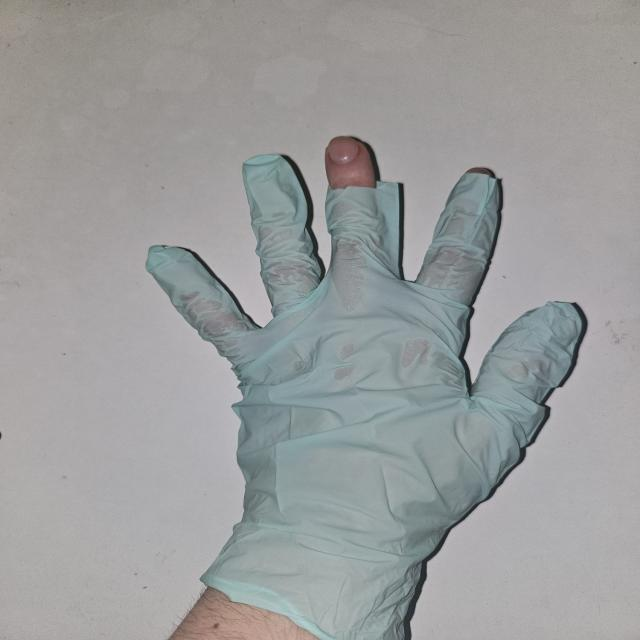gloves_damaged: (145, 137, 590, 638)
